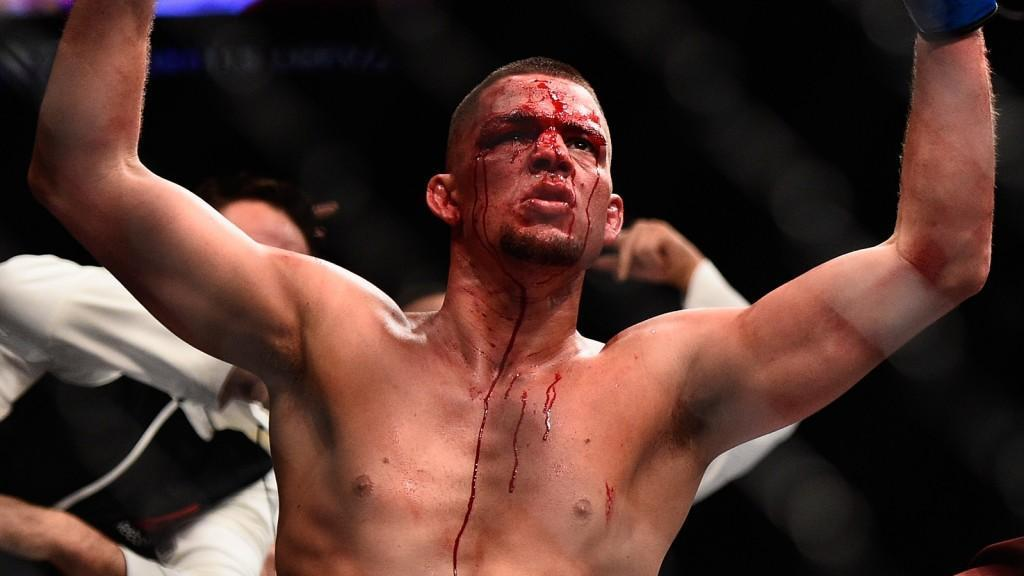Fire: (449, 73, 623, 240), (453, 285, 527, 576), (426, 256, 522, 402), (461, 150, 503, 266), (509, 391, 527, 494), (543, 372, 562, 442), (504, 373, 520, 400), (606, 482, 616, 522)
